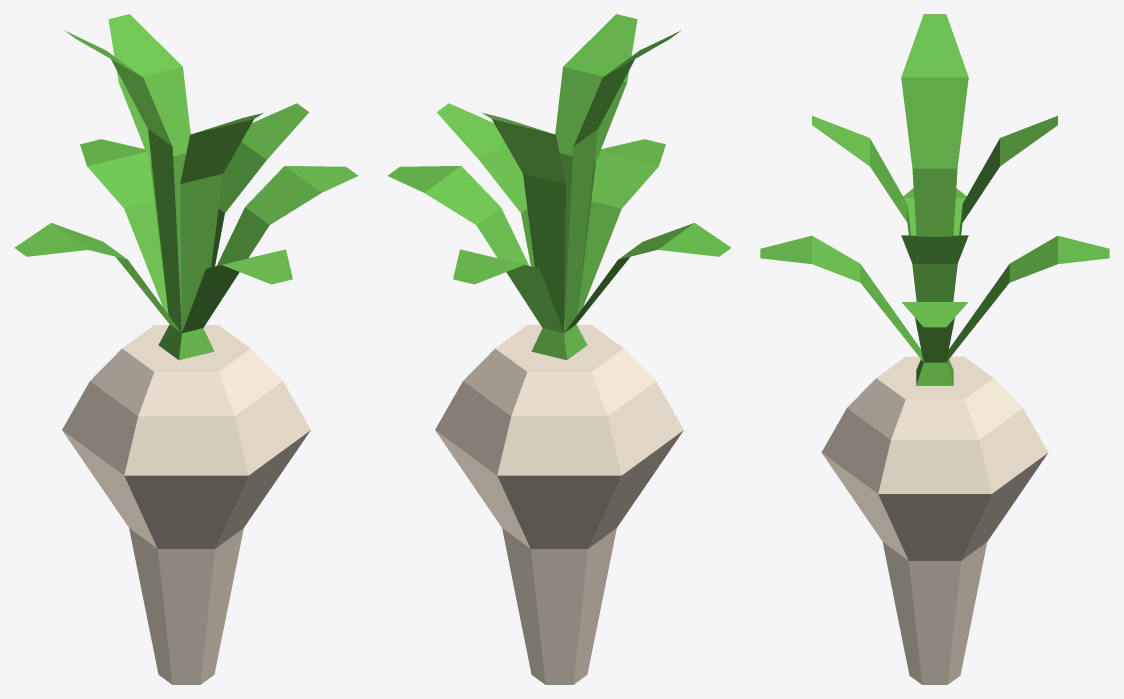
Rendered from crop_turnip.glb.
The picture shows the model from 3 angles, left to right: view 1: azimuth 30°, elevation 25°; view 2: azimuth 150°, elevation 25°; view 3: azimuth 270°, elevation 25°; orthographic projection. The views are drawn at different scales.
Parts seen in each view (by area): view 1: crop_turnip; view 2: crop_turnip; view 3: crop_turnip.
Boxes of the visible parts, bbox=[...] form: crop_turnip: bbox=[14, 14, 358, 684]; crop_turnip: bbox=[387, 14, 731, 684]; crop_turnip: bbox=[760, 14, 1109, 684].
Size of the model in its own units: 0.3431 by 0.6607 by 0.3431.
